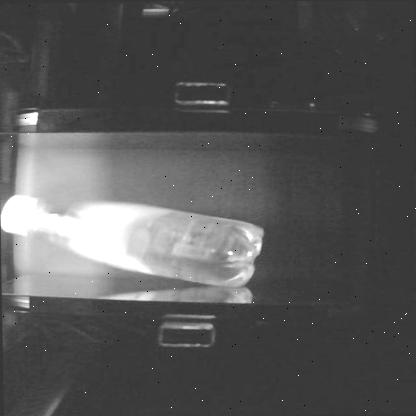Plastic Bottle: (2, 190, 263, 285)
